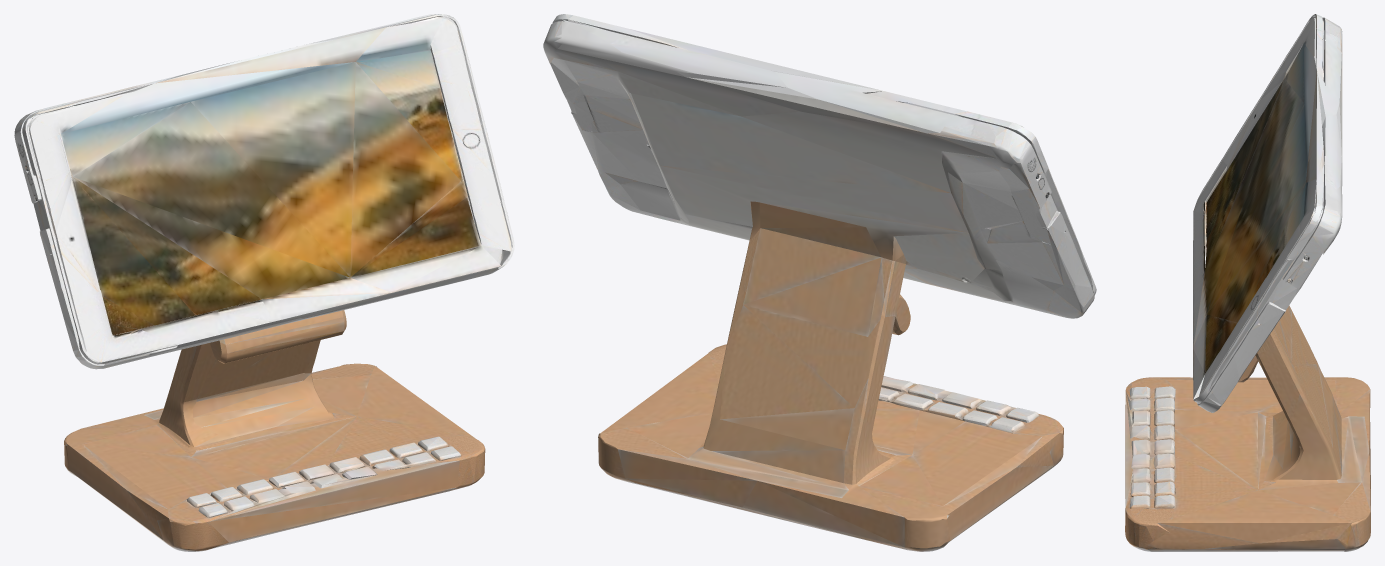
File: pos.glb
3 views of the same model, side by side, from view 1: azimuth 30°, elevation 25°; view 2: azimuth 150°, elevation 25°; view 3: azimuth 270°, elevation 25° (orthographic). The views are drawn at different scales.
Bounding box in the file's own units: 1.9 × 1.62 × 0.9638.
1 material, 1 textured.
